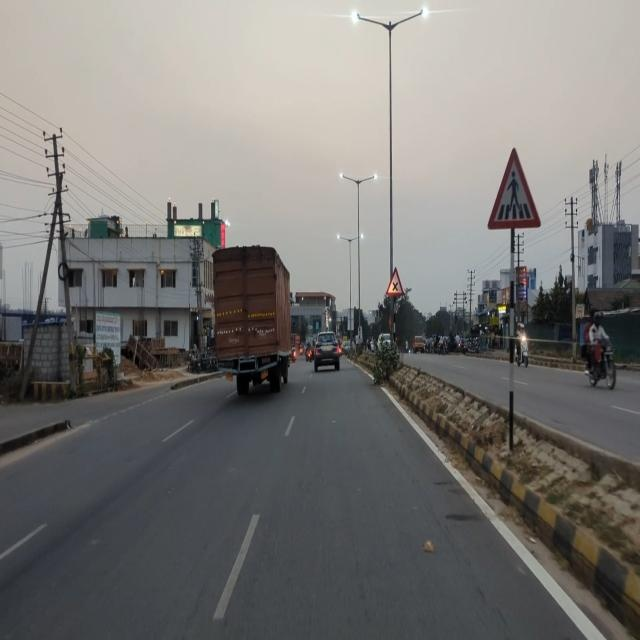bien_nguy_hiem: (488, 148, 542, 228), (385, 266, 404, 296)
